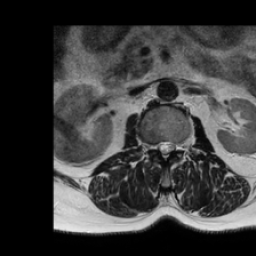CCS_normal: (160, 133, 167, 164)
LFS_normal: (174, 134, 183, 156)
LLS_normal: (167, 134, 174, 158)
RFS_stenosis: (148, 135, 154, 156)
RLS_normal: (154, 135, 160, 157)
